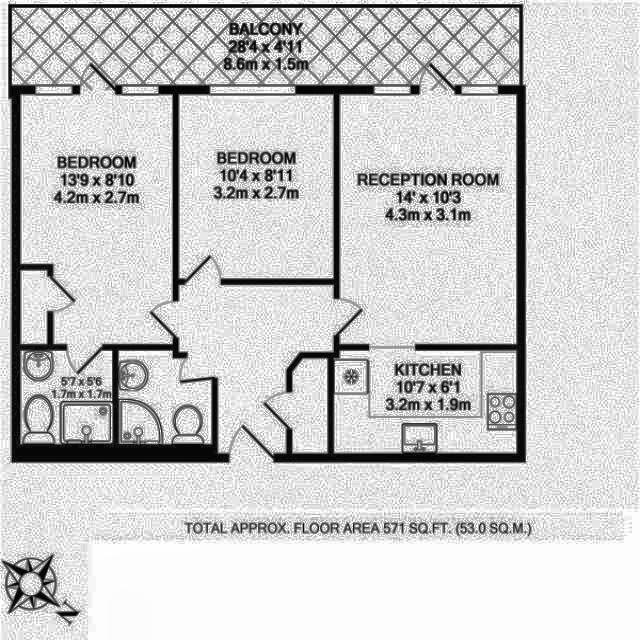room: (340, 95, 516, 344), (12, 8, 520, 84), (21, 95, 173, 344), (180, 95, 334, 279), (178, 285, 334, 453), (334, 350, 516, 453), (119, 351, 211, 444), (20, 351, 112, 443), (292, 358, 327, 453)
